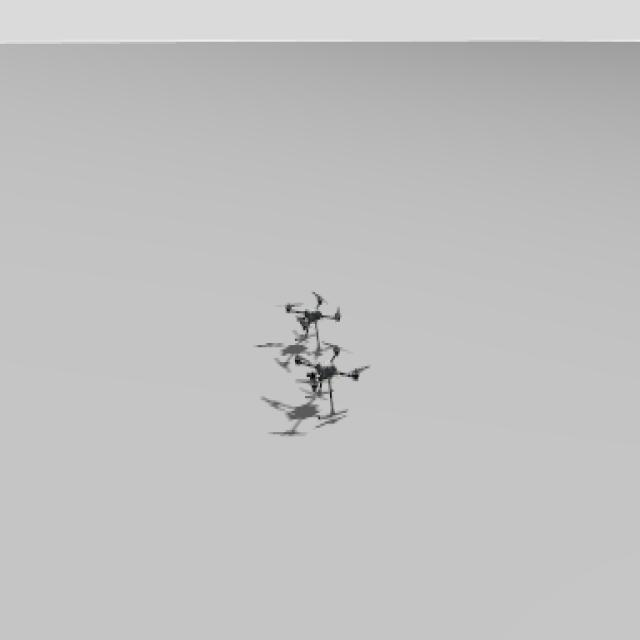drone: (291, 348, 368, 430), (281, 293, 343, 345)
